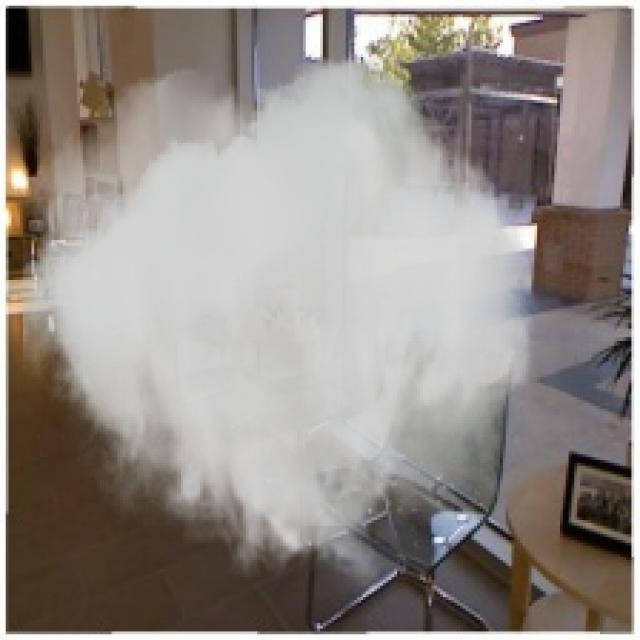smoke: (23, 57, 540, 592)
